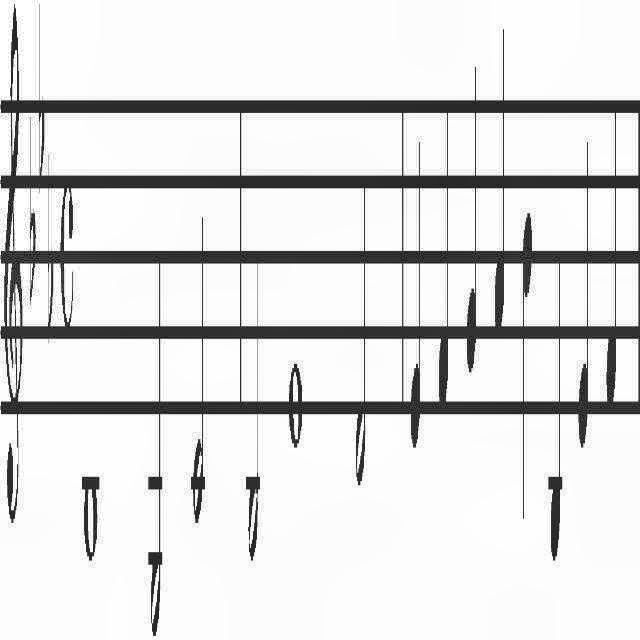Bass-clef: (3, 0, 22, 540)
Bemol: (46, 141, 54, 347), (28, 112, 36, 316), (36, 0, 44, 196)
Full-note: (288, 354, 304, 454), (84, 476, 98, 576)
Half-note: (149, 251, 163, 637), (191, 196, 205, 534), (246, 229, 260, 567), (354, 161, 366, 499)
Quarter-note: (410, 134, 422, 470), (494, 19, 506, 351), (520, 202, 532, 534), (606, 86, 618, 418), (466, 51, 478, 376), (550, 242, 562, 566), (438, 93, 449, 431), (578, 132, 588, 460)
